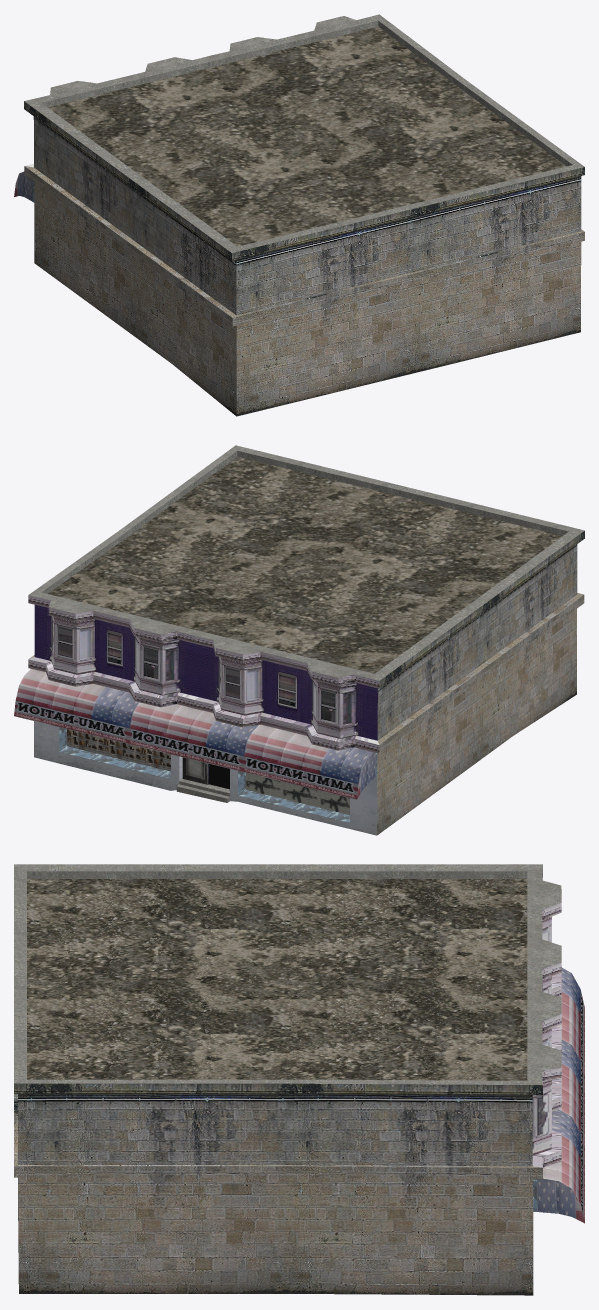
The model's file is ammunation_sfs.obj.
3 renders of one model, top to bottom at view 1: azimuth 30°, elevation 25°; view 2: azimuth 150°, elevation 25°; view 3: azimuth 270°, elevation 25°, orthographic. The views are drawn at different scales.
Parts seen in each view (by area): view 1: ammunation_SFS; view 2: ammunation_SFS; view 3: ammunation_SFS.
Boxes of the visible parts, x1,y1,x2,y2 form: ammunation_SFS: [14, 14, 584, 416]; ammunation_SFS: [14, 445, 584, 835]; ammunation_SFS: [14, 864, 584, 1295].
Bounding box in the file's own units: 20.76 × 9.3 × 22.7.
Materials: 13 (13 with a texture image).
